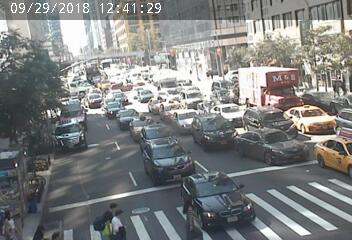car: (236, 68, 301, 108), (186, 176, 249, 216), (239, 137, 294, 163), (196, 113, 235, 145), (51, 125, 93, 152), (138, 143, 180, 169), (244, 107, 289, 130), (286, 106, 328, 130), (317, 136, 347, 162), (57, 99, 85, 119), (169, 109, 195, 128), (217, 103, 242, 121), (142, 125, 168, 139), (130, 118, 154, 133), (158, 78, 180, 92), (158, 104, 181, 117), (194, 97, 213, 111), (179, 90, 199, 102), (115, 112, 135, 123), (147, 97, 166, 107), (100, 100, 118, 109), (134, 89, 152, 96), (85, 96, 98, 105), (111, 94, 124, 100)
